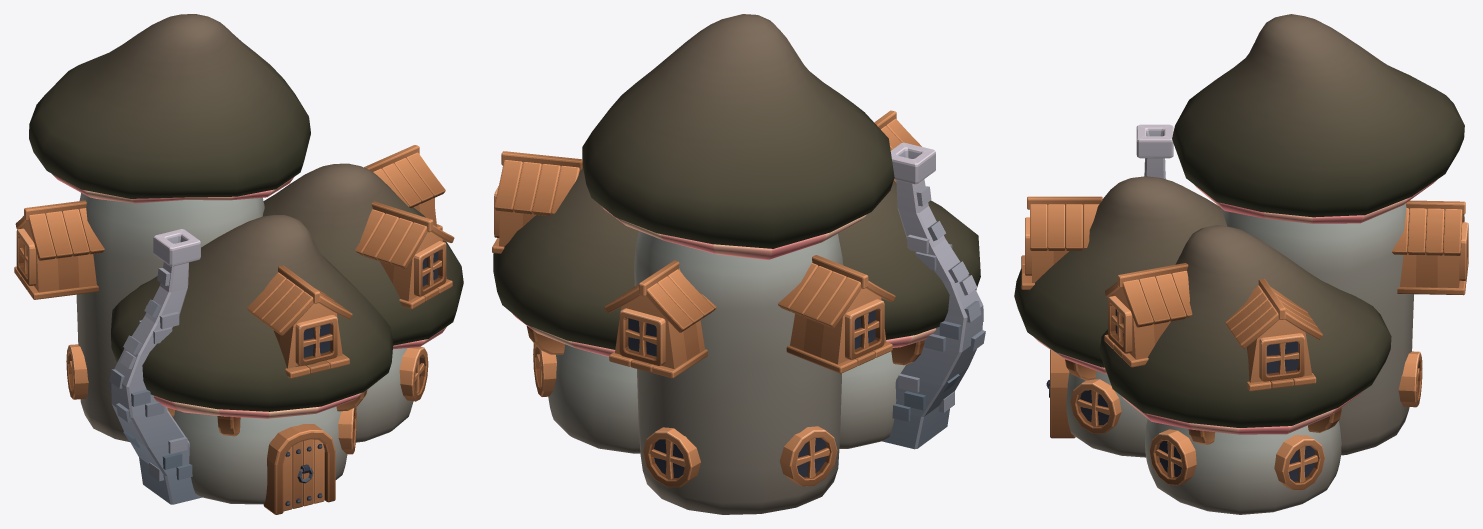
The model's file is mt_house12.fbx.
3 renders of one model, left to right at view 1: azimuth 30°, elevation 25°; view 2: azimuth 150°, elevation 25°; view 3: azimuth 270°, elevation 25°, orthographic. The views are drawn at different scales.
Visible parts, largest first — view 1: h12; view 2: h12; view 3: h12.
Boxes of the visible parts, left/top/right/bottom form: h12: left=14, top=14, right=463, bottom=514; h12: left=492, top=14, right=985, bottom=514; h12: left=1014, top=14, right=1468, bottom=514.
Size of the model in its own units: 1041 by 1056 by 1068.
